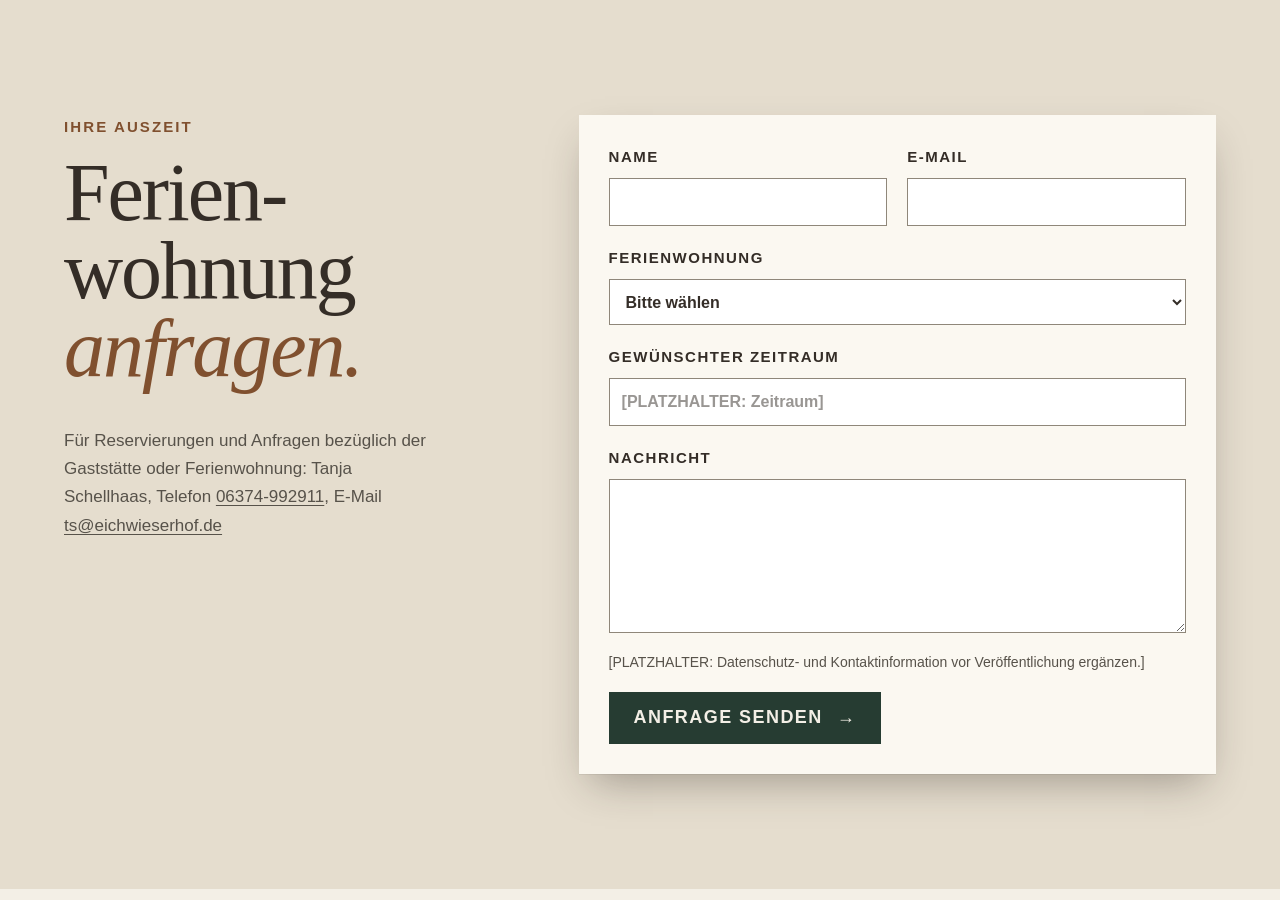
Test: ApartmentInquiryForm › sends a POST request with FormData and resets only after success
This screenshot has width=1280, height=900.
In the field labelled "Name": x=748, y=202 [608, 178, 887, 226], type "Erika Muster"
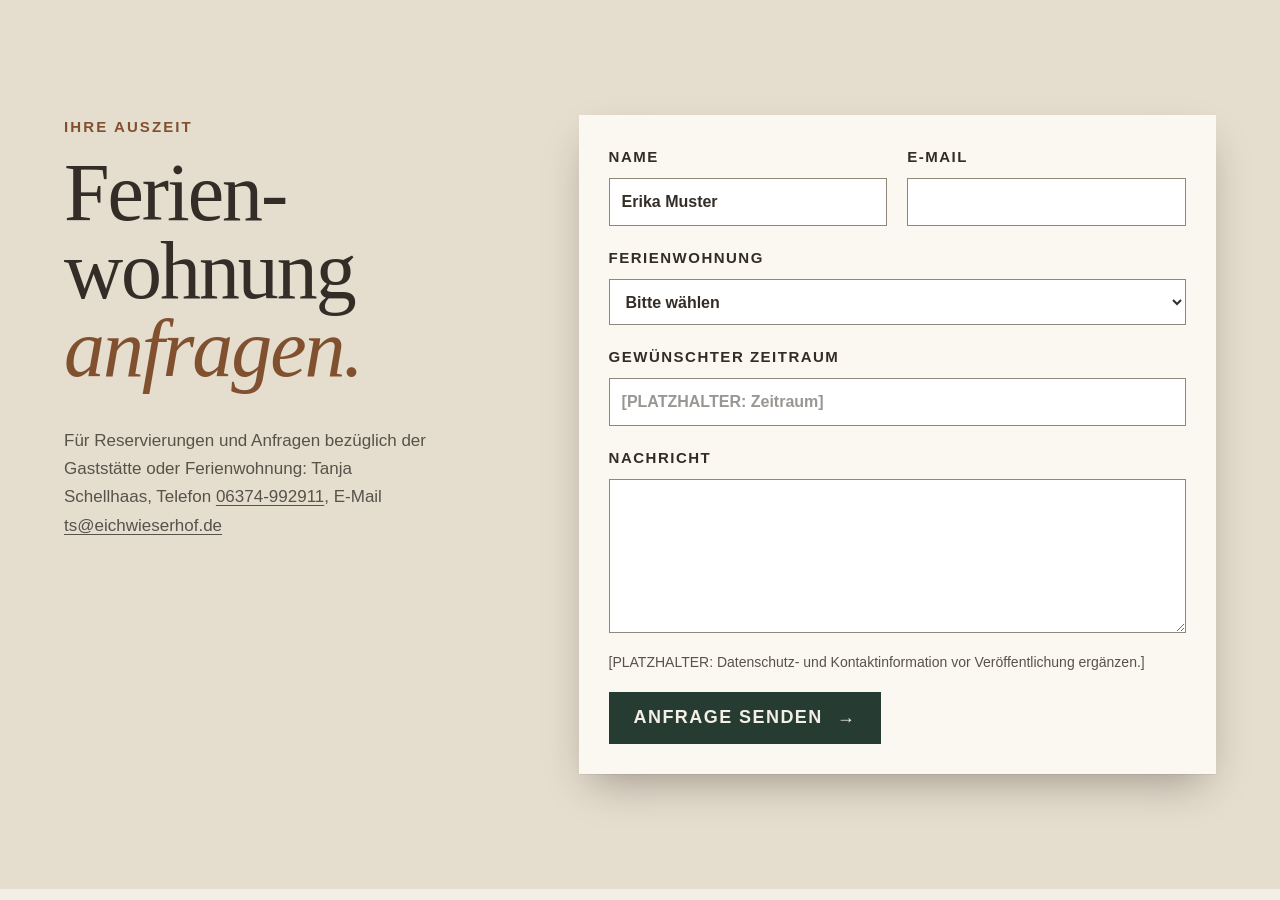
In the field labelled "E-Mail": x=1047, y=202 [907, 178, 1186, 226], type "erika@example.com"
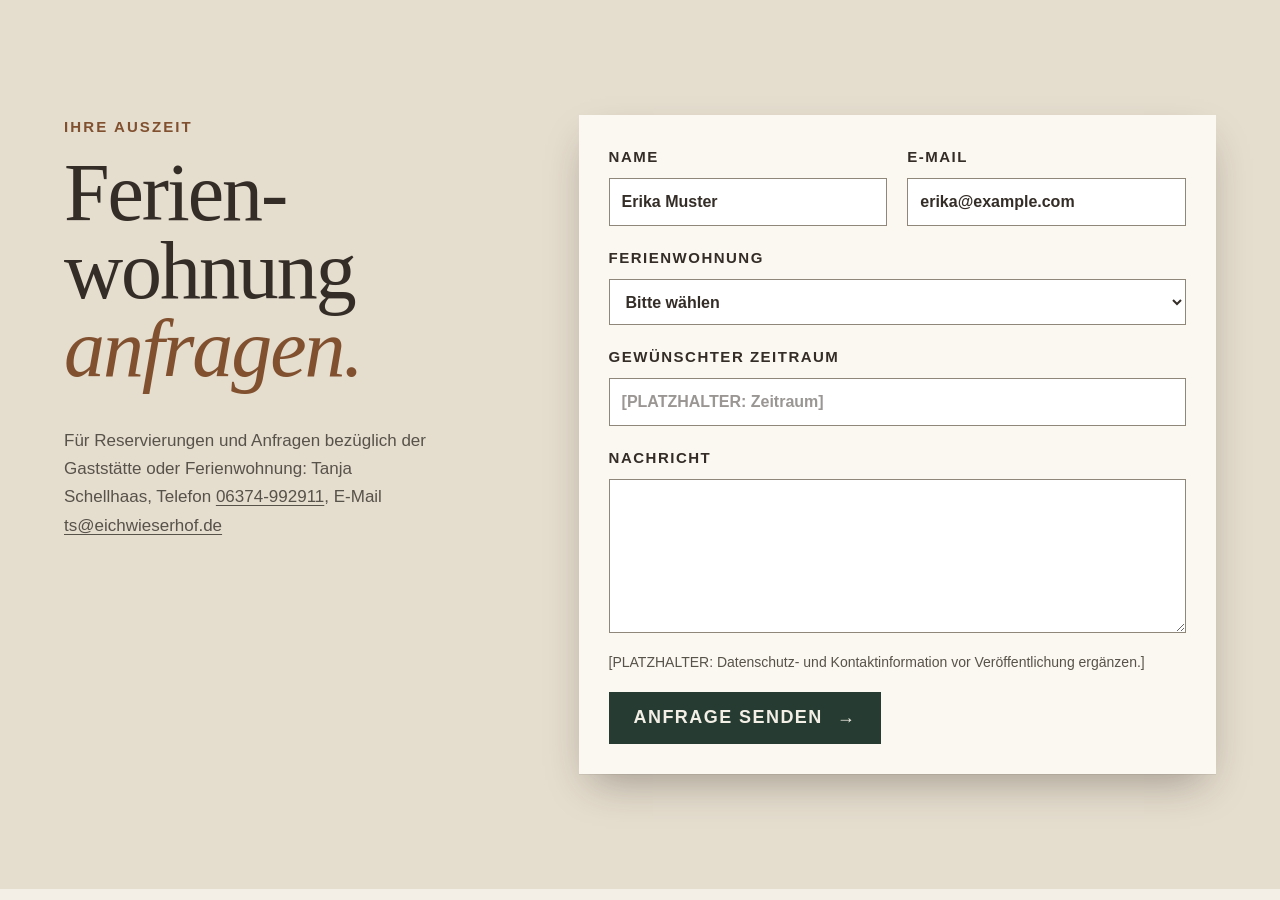
In the text box labelled "Nachricht": x=897, y=556 [608, 479, 1186, 633], type "Ich interessiere mich für eine Ferienwohnung."
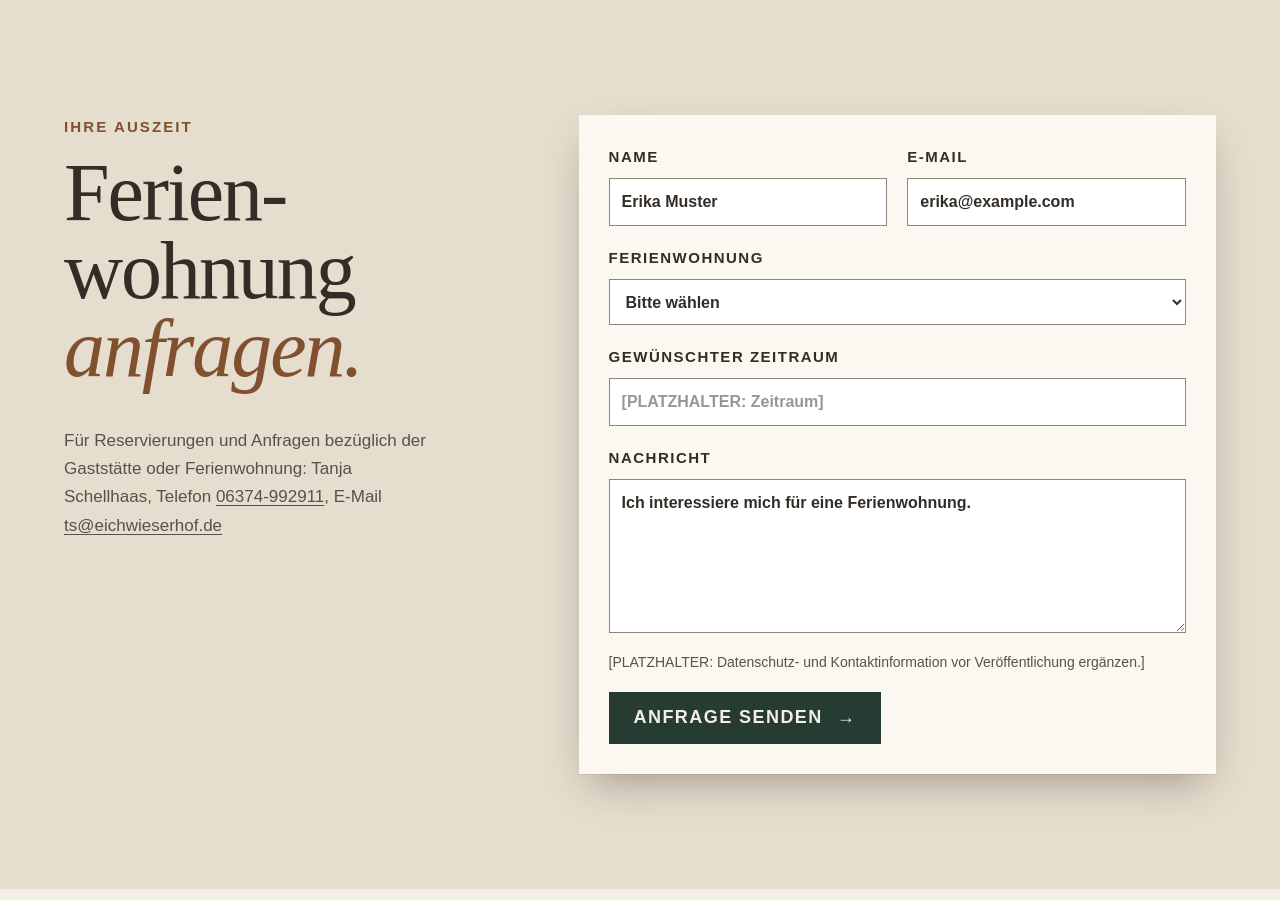
Submit the form named "Anfrage senden", box [578, 115, 1216, 774]
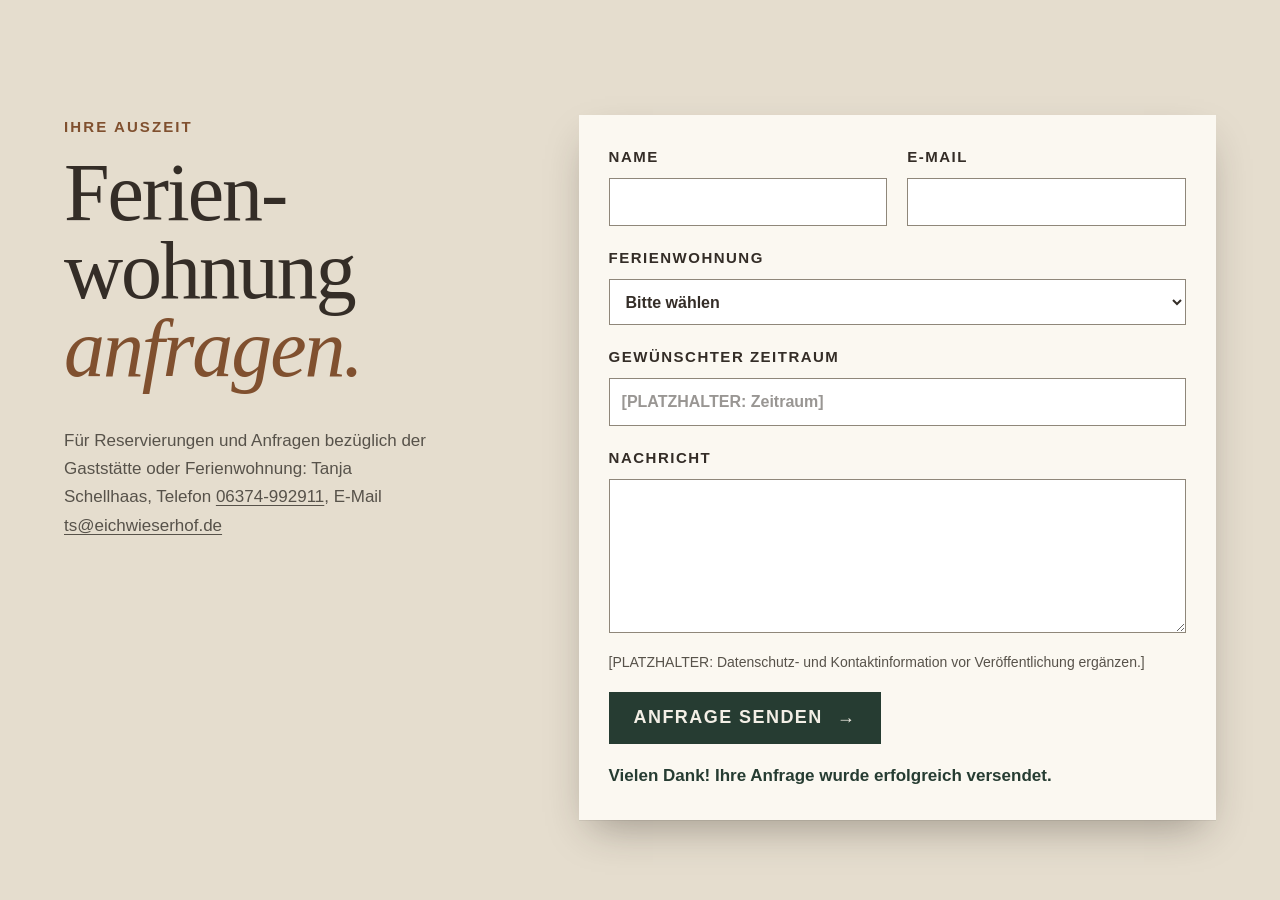
expect the text "Vielen Dank! Ihre Anfrage wurde erfolgreich versendet." is shown: met, box [608, 766, 1052, 785]
expect the field labelled "Name" is empty: met, box [608, 178, 887, 226]
